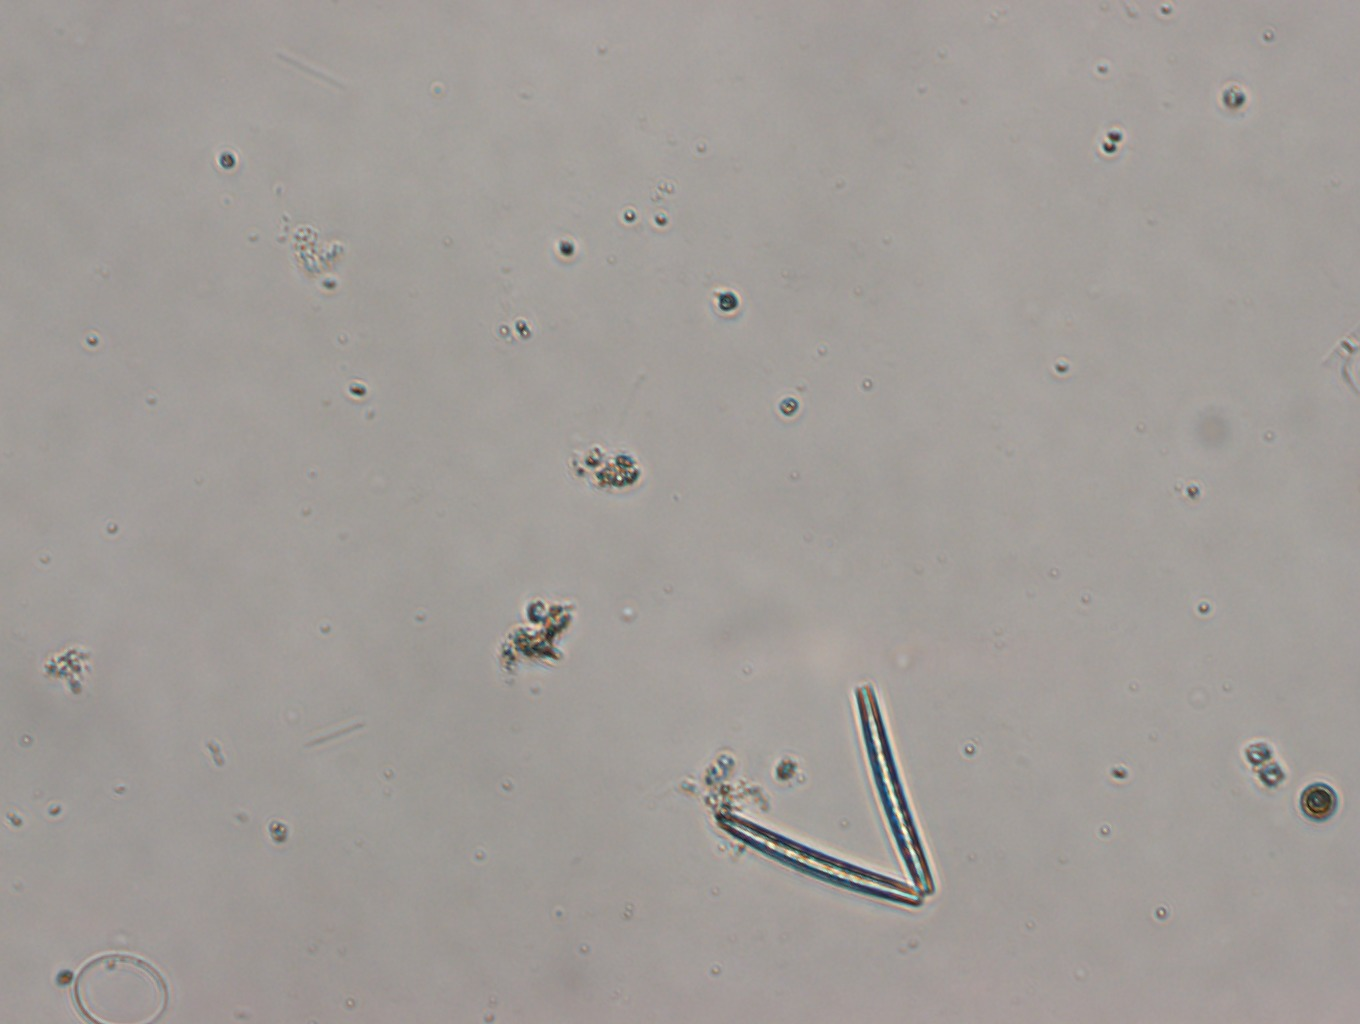thalassionema nitzschioides: (708, 683, 939, 911)
